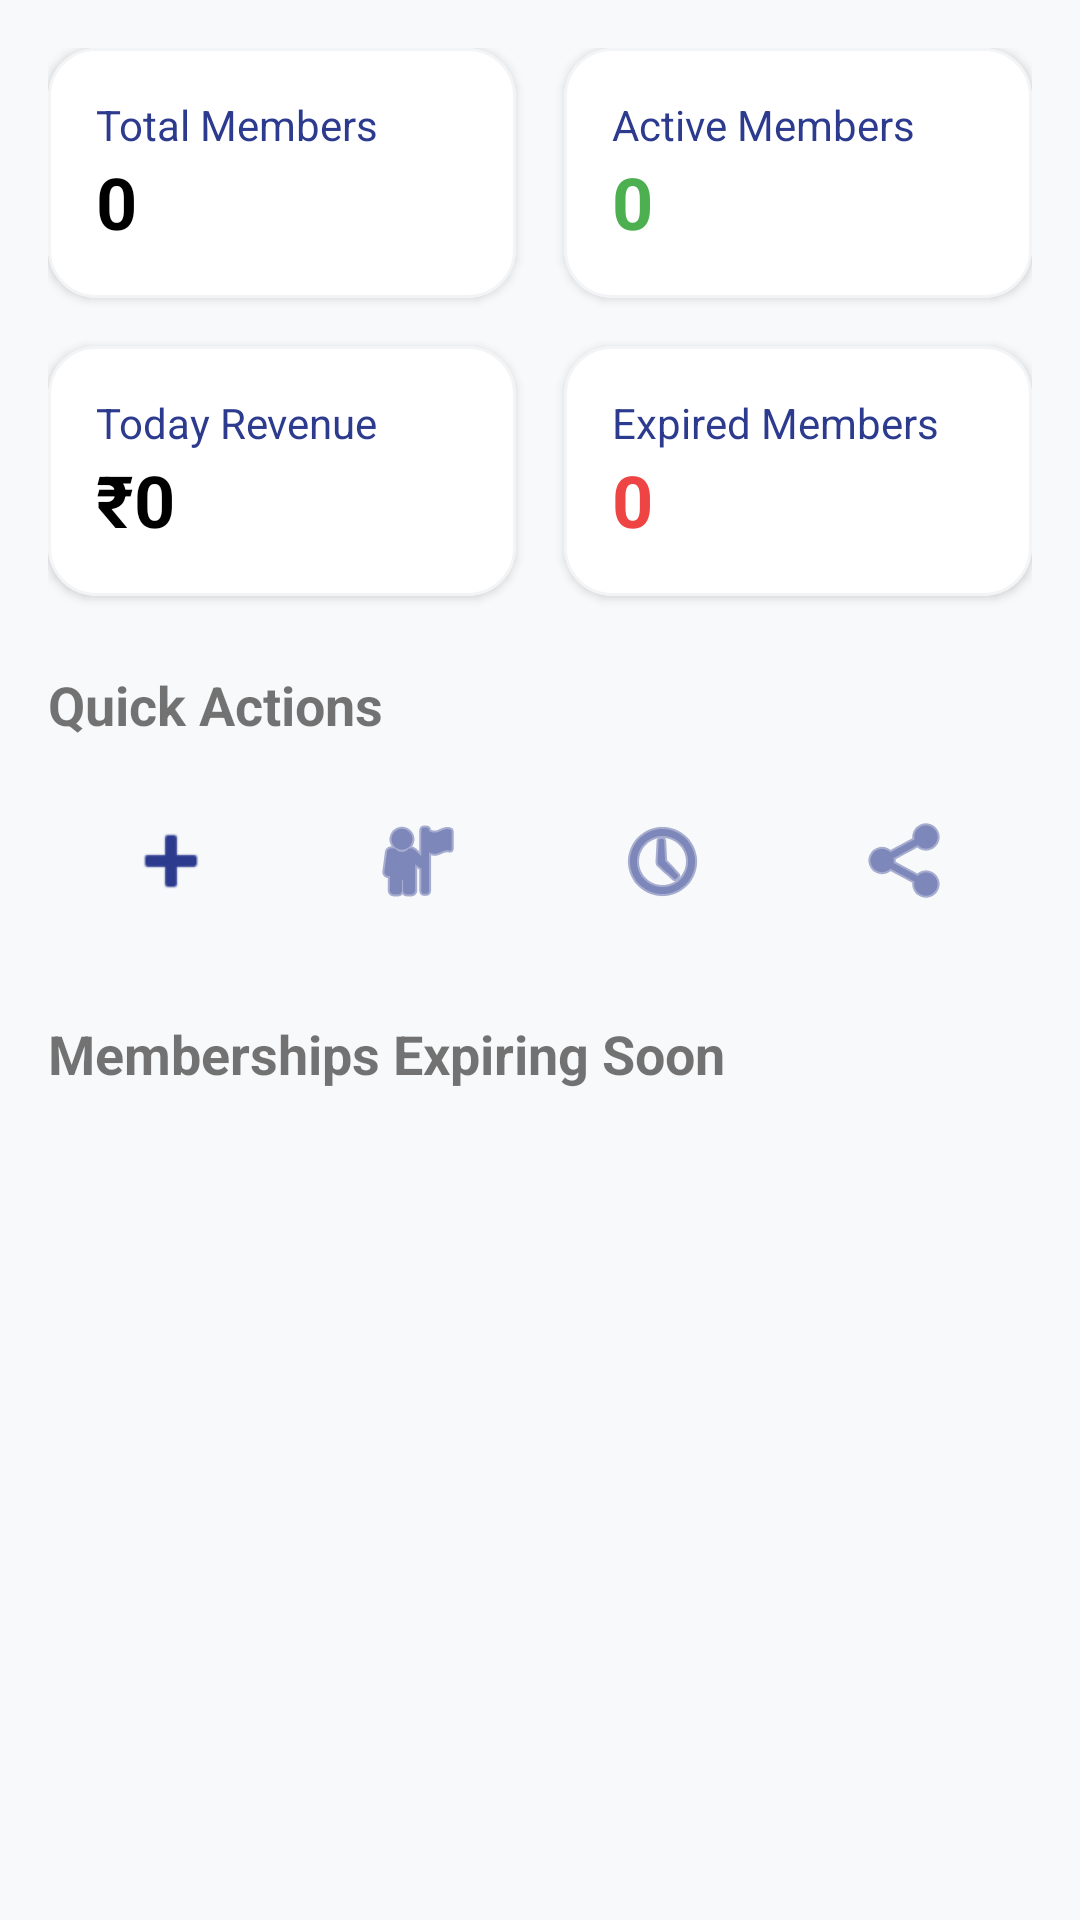

Named icons in this screenshot (1080x1920) and their bounding boxes, (x1,y1,x2,y2):
Add Member: (144,834,198,888)
View Members: (382,825,454,897)
